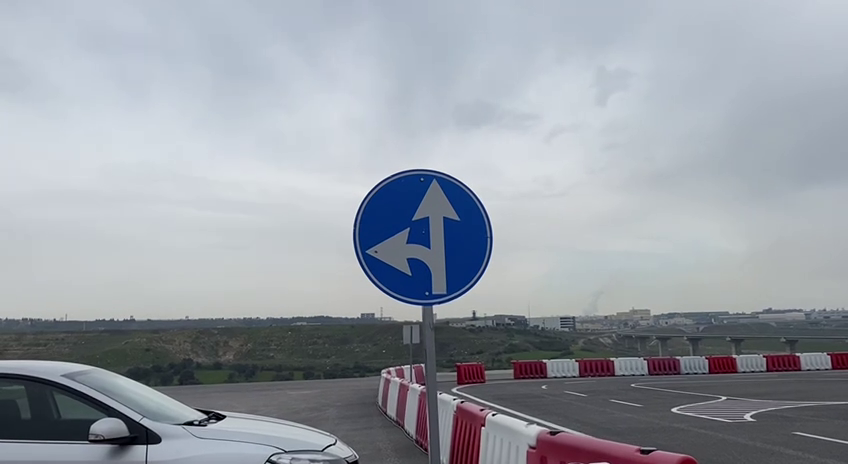forwardAndLeft: (349, 168, 493, 308)
